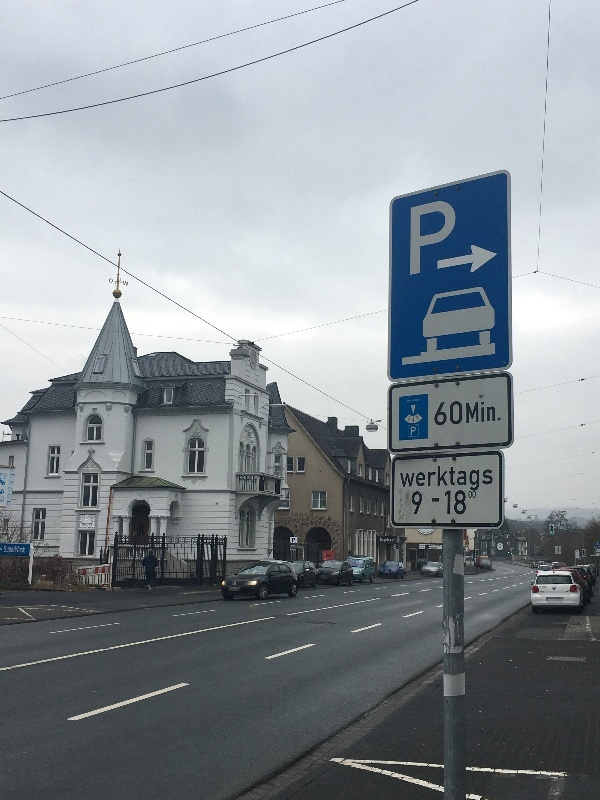text: (417, 197, 432, 277), (433, 197, 448, 277), (449, 197, 457, 277), (410, 197, 416, 277), (401, 465, 416, 493), (417, 465, 432, 493), (433, 465, 448, 493), (449, 465, 464, 493), (465, 465, 480, 493), (449, 490, 464, 515), (449, 401, 463, 426), (481, 401, 496, 424), (481, 465, 493, 493), (467, 401, 480, 424), (1, 476, 16, 488), (441, 401, 448, 426), (417, 491, 423, 517), (497, 401, 502, 424), (412, 491, 416, 517), (4, 546, 16, 554), (1, 489, 16, 495), (469, 491, 480, 499), (385, 536, 396, 543), (445, 490, 448, 515), (17, 546, 26, 554), (292, 538, 304, 543), (116, 281, 128, 286), (411, 426, 416, 436), (433, 545, 442, 550), (421, 545, 432, 549), (120, 278, 128, 283), (410, 416, 416, 422), (379, 536, 384, 543), (433, 498, 440, 503), (123, 281, 128, 287), (550, 598, 560, 601), (399, 465, 400, 493), (465, 490, 466, 515), (553, 598, 560, 601), (109, 278, 112, 284), (417, 416, 419, 422), (430, 545, 432, 550), (557, 598, 560, 601), (561, 598, 562, 601)
